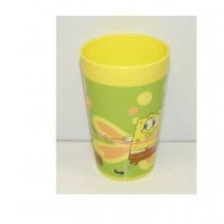glass: (68, 30, 175, 187)
